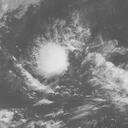cyclone: (31, 38, 70, 79)
